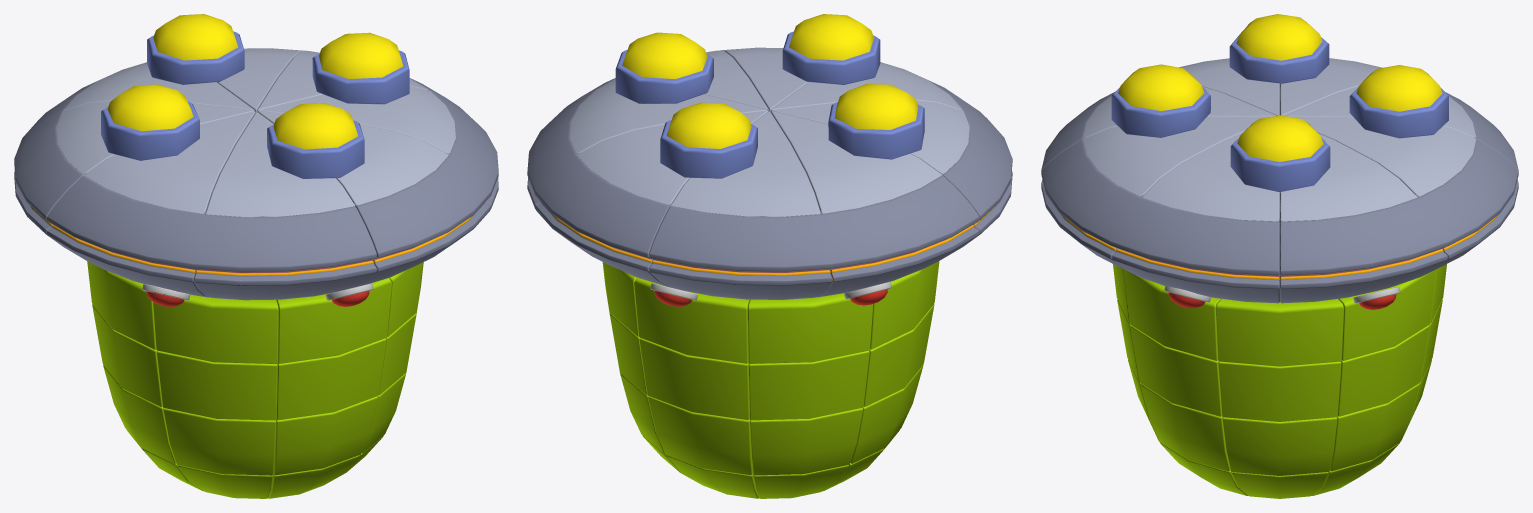
The model's file is Level_StrangerV_33.fbx.
The picture shows the model from 3 angles, left to right: view 1: azimuth 30°, elevation 25°; view 2: azimuth 150°, elevation 25°; view 3: azimuth 270°, elevation 25°; orthographic projection.
Parts seen in each view (by area): view 1: Strange_Visitor_67, Strange_Visitor_68, Strange_Visitor_32, Strange_Visitor_74, Strange_Visitor_73, Strange_Visitor_24, Strange_Visitor_31, Strange_Visitor_80, Strange_Visitor_79, Strange_Visitor_23, Strange_Visitor_16, Strange_Visitor_81 (+23 smaller); view 2: Strange_Visitor_66, Strange_Visitor_69, Strange_Visitor_26, Strange_Visitor_75, Strange_Visitor_76, Strange_Visitor_18, Strange_Visitor_27, Strange_Visitor_78, Strange_Visitor_79, Strange_Visitor_19, Strange_Visitor_10, Strange_Visitor_81 (+23 smaller); view 3: Strange_Visitor_68, Strange_Visitor_69, Strange_Visitor_29, Strange_Visitor_21, Strange_Visitor_72, Strange_Visitor_77, Strange_Visitor_71, Strange_Visitor_70, Strange_Visitor_81, Strange_Visitor_13, Strange_Visitor_80, Strange_Visitor_78 (+24 smaller).
Boxes of the visible parts, left/top/right/bottom form: Strange_Visitor_67: left=47, top=176, right=376, bottom=273; Strange_Visitor_68: left=354, top=91, right=498, bottom=259; Strange_Visitor_32: left=153, top=294, right=278, bottom=364; Strange_Visitor_74: left=84, top=111, right=255, bottom=214; Strange_Visitor_73: left=206, top=112, right=354, bottom=217; Strange_Visitor_24: left=156, top=351, right=277, bottom=420; Strange_Visitor_31: left=276, top=278, right=391, bottom=363; Strange_Visitor_80: left=267, top=103, right=364, bottom=178; Strange_Visitor_79: left=101, top=84, right=199, bottom=160; Strange_Visitor_23: left=276, top=338, right=386, bottom=420; Strange_Visitor_16: left=163, top=408, right=276, bottom=475; Strange_Visitor_81: left=312, top=32, right=409, bottom=104; Strange_Visitor_66: left=649, top=175, right=979, bottom=273; Strange_Visitor_69: left=527, top=91, right=672, bottom=259; Strange_Visitor_26: left=747, top=293, right=873, bottom=363; Strange_Visitor_75: left=770, top=111, right=942, bottom=213; Strange_Visitor_76: left=671, top=111, right=820, bottom=216; Strange_Visitor_18: left=748, top=350, right=869, bottom=420; Strange_Visitor_27: left=634, top=277, right=749, bottom=363; Strange_Visitor_78: left=660, top=102, right=757, bottom=178; Strange_Visitor_79: left=828, top=84, right=924, bottom=159; Strange_Visitor_19: left=639, top=338, right=749, bottom=420; Strange_Visitor_10: left=750, top=408, right=863, bottom=475; Strange_Visitor_81: left=615, top=32, right=713, bottom=103; Strange_Visitor_68: left=1041, top=139, right=1279, bottom=276; Strange_Visitor_69: left=1280, top=139, right=1518, bottom=276; Strange_Visitor_29: left=1215, top=299, right=1344, bottom=366; Strange_Visitor_21: left=1218, top=361, right=1341, bottom=421; Strange_Visitor_72: left=1083, top=116, right=1271, bottom=196; Strange_Visitor_77: left=1290, top=116, right=1476, bottom=196; Strange_Visitor_71: left=1142, top=133, right=1279, bottom=221; Strange_Visitor_70: left=1280, top=133, right=1417, bottom=221; Strange_Visitor_81: left=1230, top=115, right=1330, bottom=192; Strange_Visitor_13: left=1222, top=417, right=1337, bottom=475; Strange_Visitor_80: left=1111, top=64, right=1210, bottom=137; Strange_Visitor_78: left=1349, top=65, right=1448, bottom=138.
Size of the model in its own units: 0.063 by 0.0594 by 0.063.
